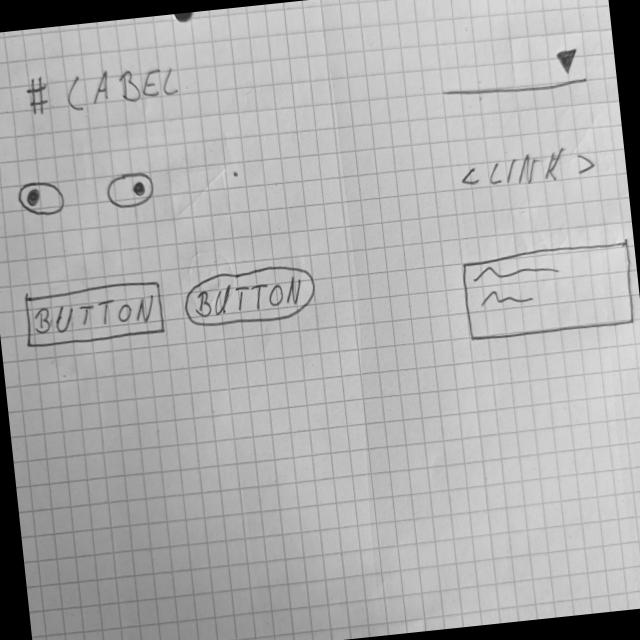button: (22, 277, 168, 351), (181, 260, 321, 333)
label: (25, 60, 183, 120)
link: (458, 142, 599, 194)
select: (436, 43, 592, 105)
textarea: (459, 238, 639, 347)
toggle: (15, 178, 69, 222), (105, 168, 157, 211)
